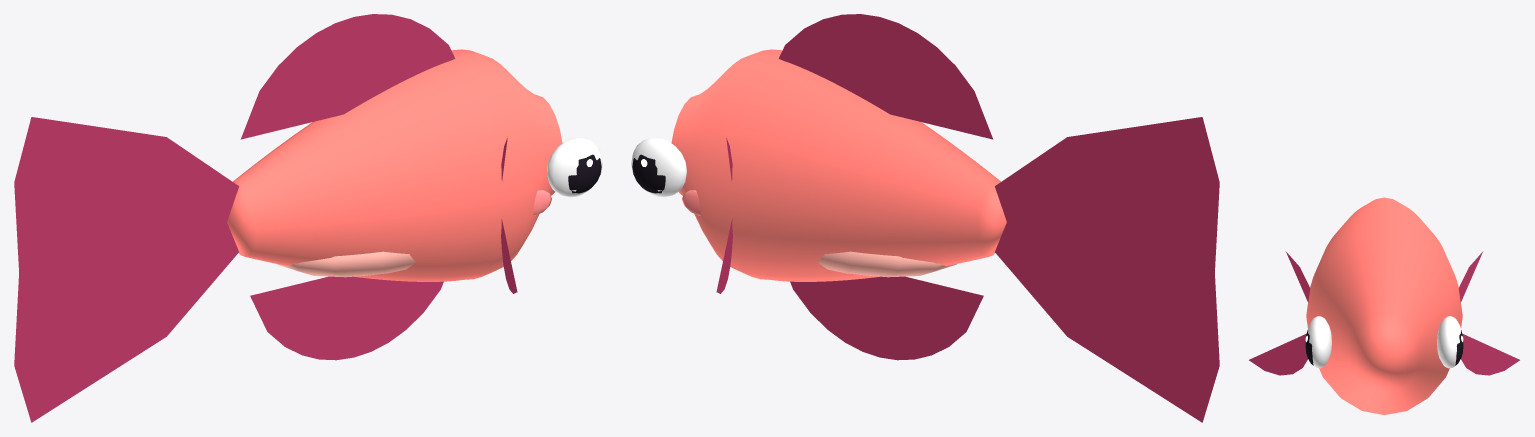
File: betta.glb
The picture shows the model from 3 angles, left to right: view 1: azimuth 30°, elevation 25°; view 2: azimuth 150°, elevation 25°; view 3: azimuth 270°, elevation 25°; orthographic projection. The views are drawn at different scales.
Visible parts, largest first — view 1: betta; view 2: betta; view 3: betta.
Part boxes in pixels (box(x1,y1,x2,y2)): betta: box(14, 14, 602, 422); betta: box(631, 14, 1219, 422); betta: box(1249, 197, 1519, 414).
Size of the model in its own units: 1.45 by 0.86 by 0.742.
